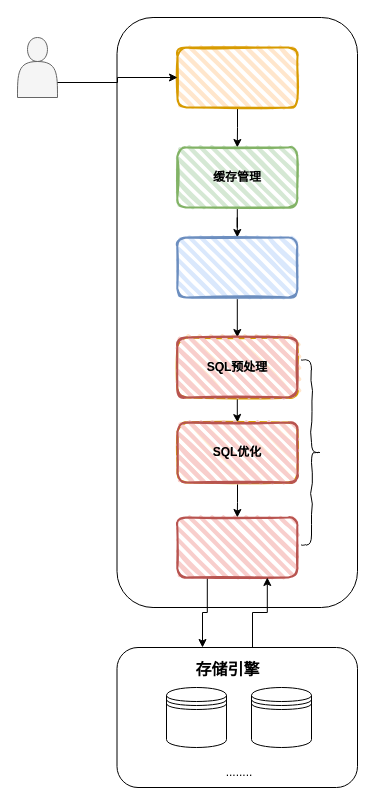
The diagram is 375 pixels wide and 805 high, and some of its shapes have lost their labels. The centre of each missing label's shape, as x and y in pixels:
SQL执行: (237,547)
解析器: (237,267)
连接器: (237,77)
